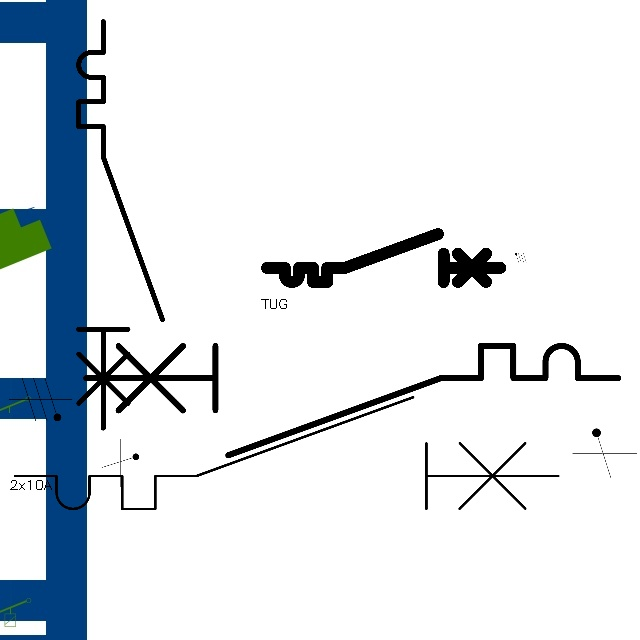interruptor_termomagnetico: (1, 383, 572, 523), (72, 332, 632, 469), (68, 11, 172, 439), (261, 228, 506, 288)
